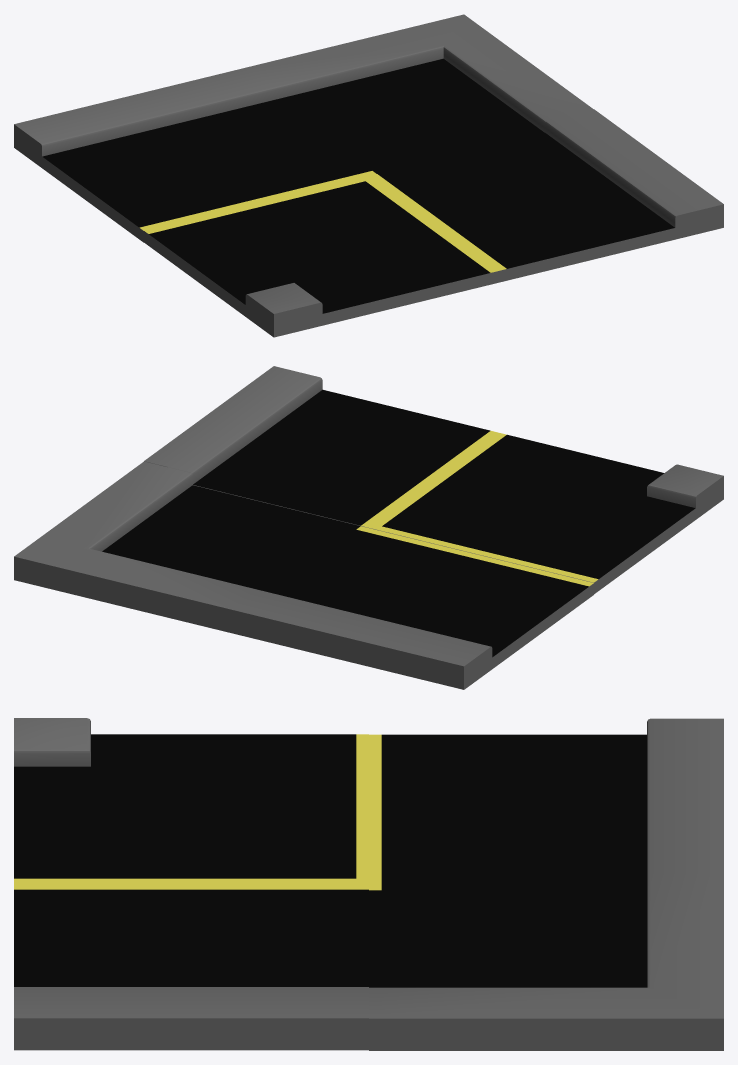
The picture shows the model from 3 angles, top to bottom: view 1: azimuth 30°, elevation 25°; view 2: azimuth 150°, elevation 25°; view 3: azimuth 270°, elevation 25°; orthographic projection. The views are drawn at different scales.
Visible parts, largest first — view 1: L3; view 2: L3; view 3: L3.
Part boxes in pixels (<box>): L3: <box>14,14,723,337</box>; L3: <box>14,366,723,689</box>; L3: <box>14,718,723,1050</box>.
Size of the model in its own units: 200 by 10.16 by 200.
